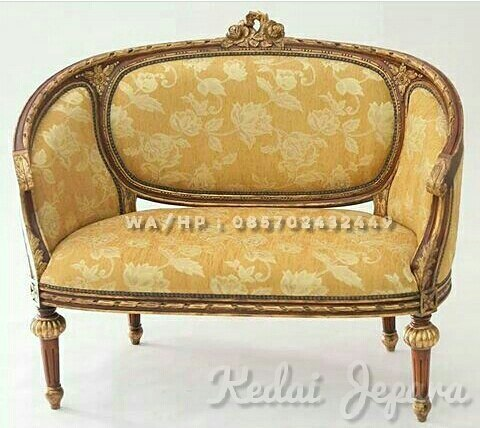Carving Chair: (14, 35, 450, 402)
